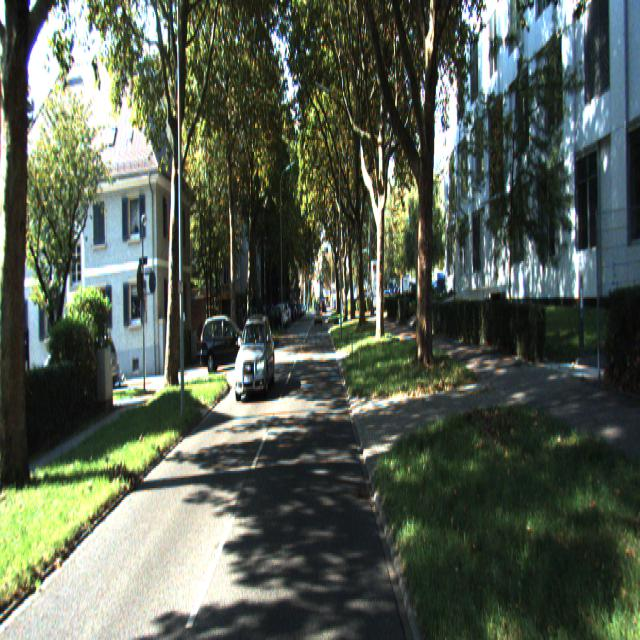Car: (234, 319, 275, 403), (201, 312, 254, 370)
